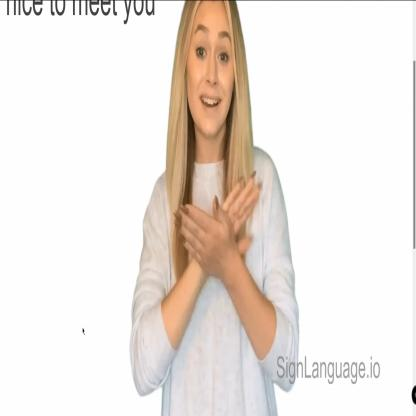NiceToMeetYou: (183, 146, 266, 282)
